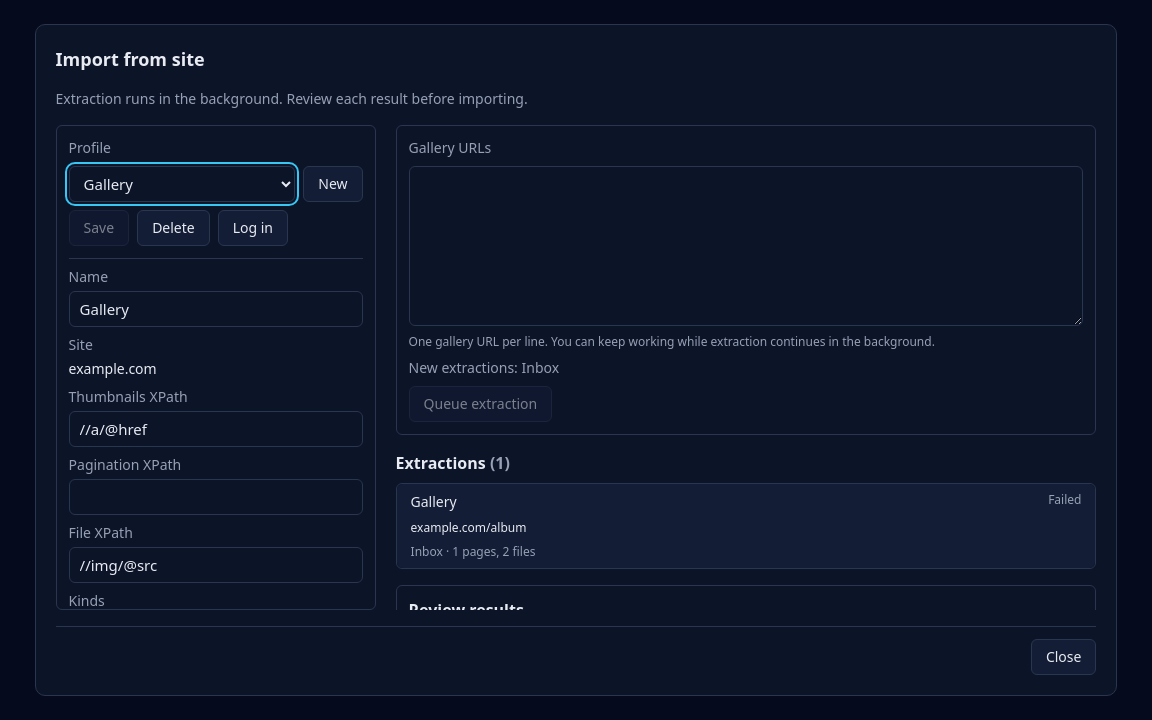
Test: keeps importing disabled for a failed extraction with partial candidates
Click the button "Gallery Failed example.com/album Inbox · 1 pages, 2 files": (434, 502) [397,484,1096,568]
(page scrolled)
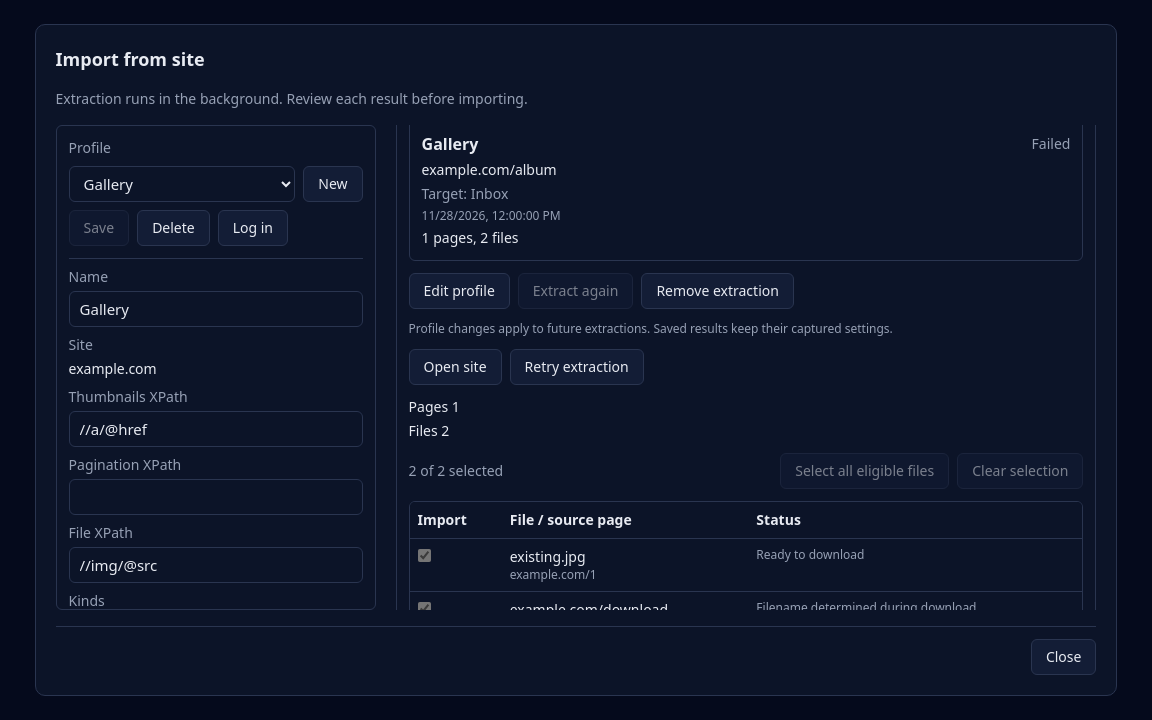
Check: the button "Retry extraction" is shown, box [510,349,644,385]
